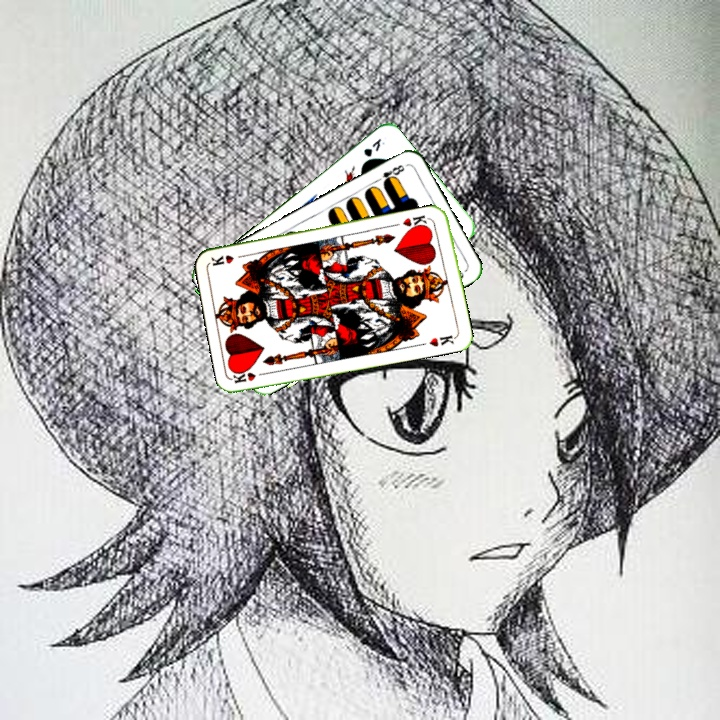E8: (371, 161, 407, 188)
GK: (359, 134, 388, 159)
HK: (230, 367, 271, 386), (399, 211, 434, 233)
